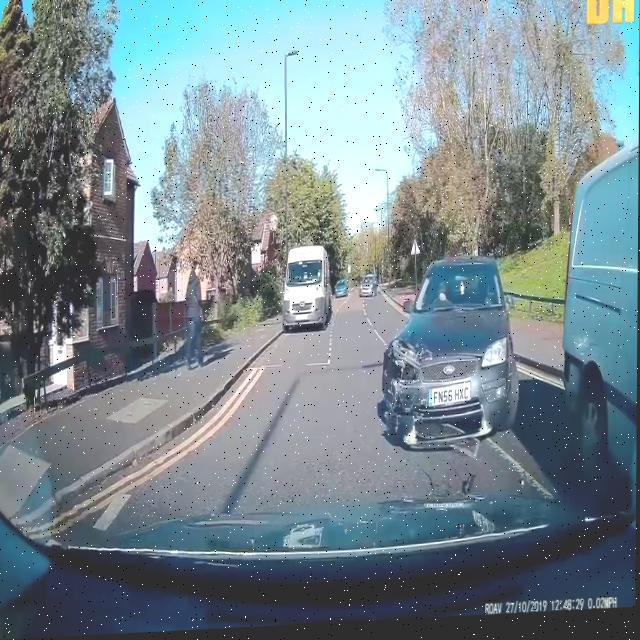multiple_accident: (367, 125, 640, 485)
